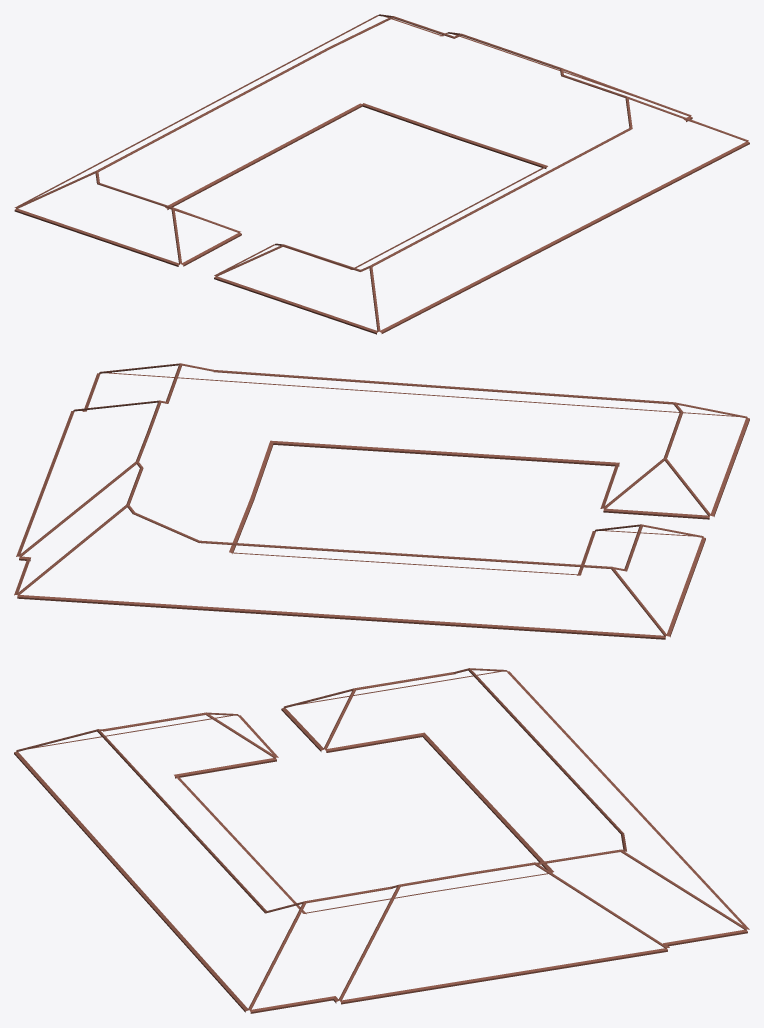
3 renders of one model, top to bottom at view 1: azimuth 30°, elevation 25°; view 2: azimuth 150°, elevation 25°; view 3: azimuth 270°, elevation 25°, orthographic. The views are drawn at different scales.
Parts seen in each view (by area): view 1: detail; view 2: detail; view 3: detail.
Boxes of the visible parts, x1,y1,x2,y2 form: detail: [14, 14, 749, 334]; detail: [14, 363, 749, 639]; detail: [14, 668, 749, 1013].
Bounding box in the file's own units: 68.19 × 5.94 × 62.02.
